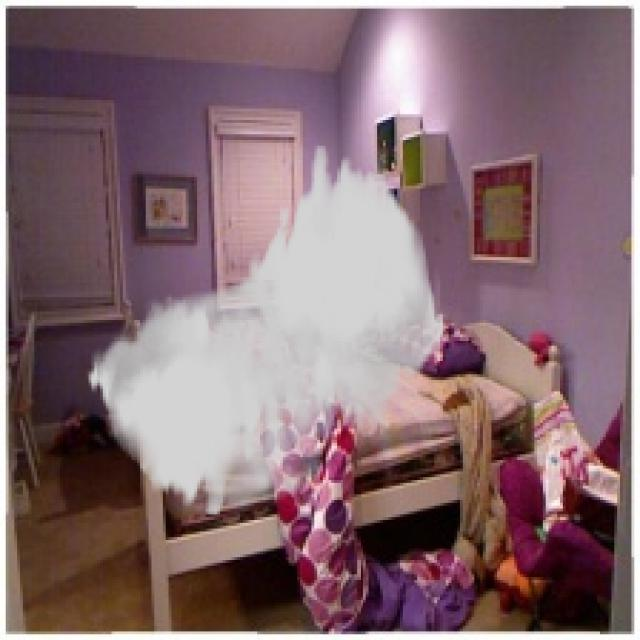smoke: (86, 146, 446, 517)
